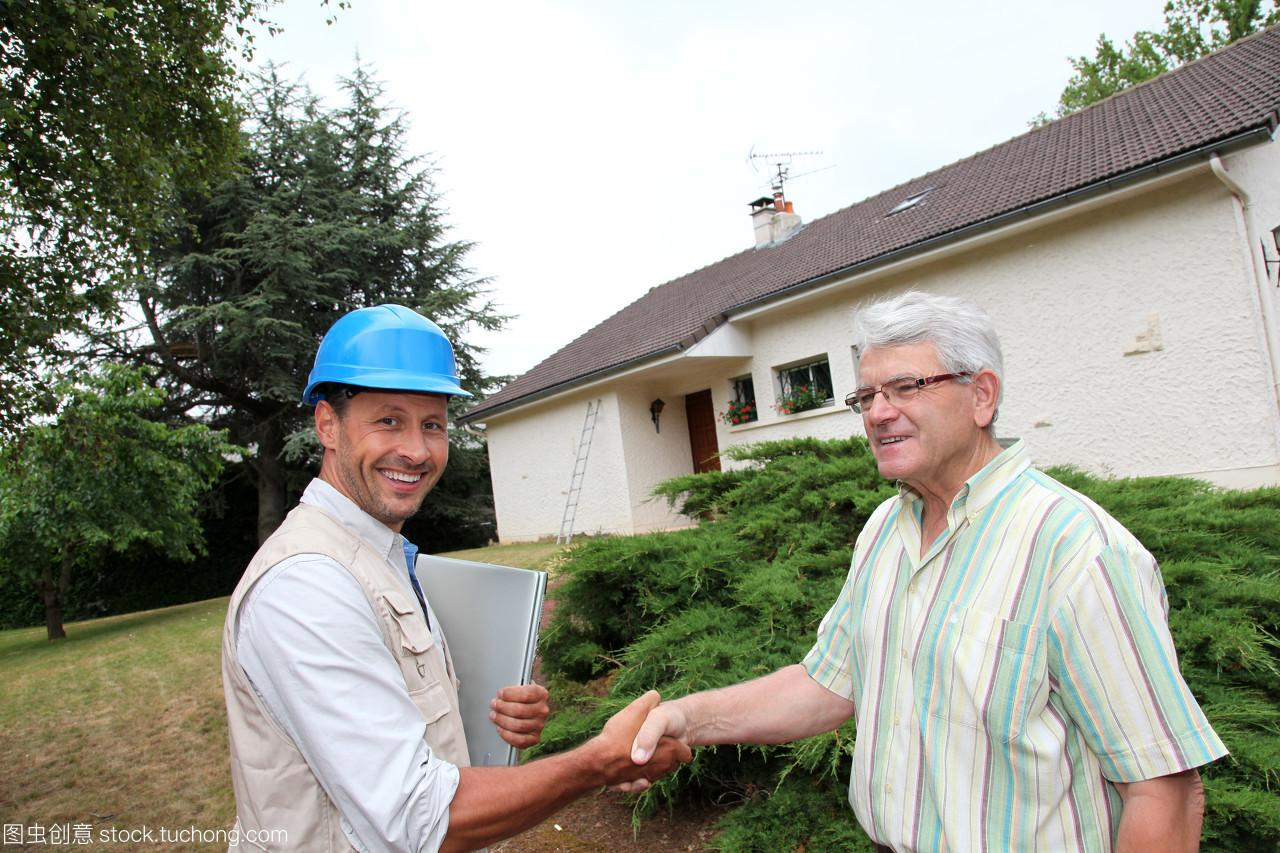helmet: (300, 304, 479, 405)
